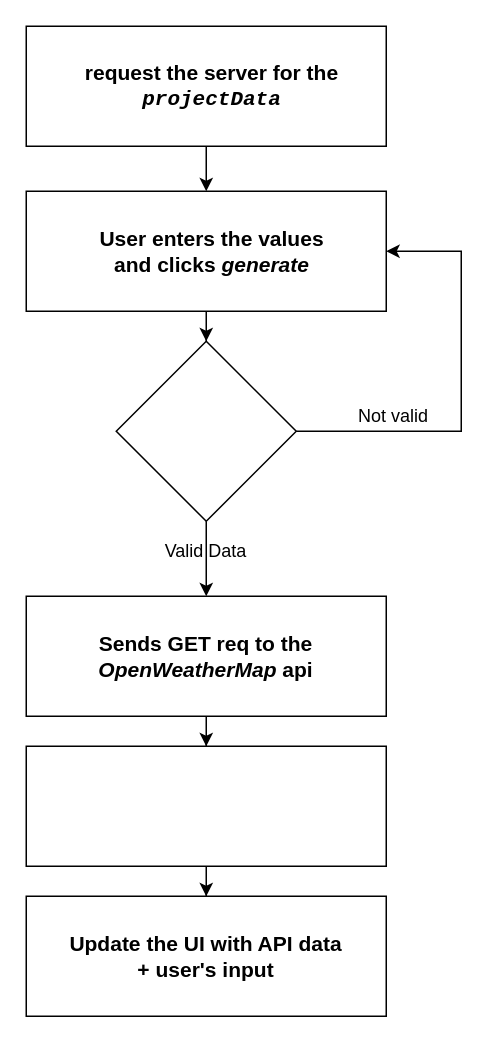
Some shapes in this 500 by 1043 pixel diagram are drawn without their labels. The shapes that lost their labels are listed below. From the top down, each one's centre as x and y in pixels, then its label:
At point 205,430: "Validate data".
At point 205,805: "Sends POST req to the server with the data received from API + user's input".
